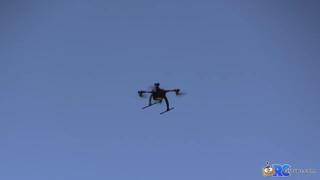UAV: (138, 83, 187, 114)
